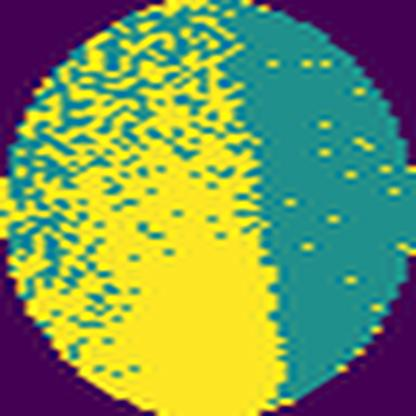Loc: (0, 16, 293, 415)
